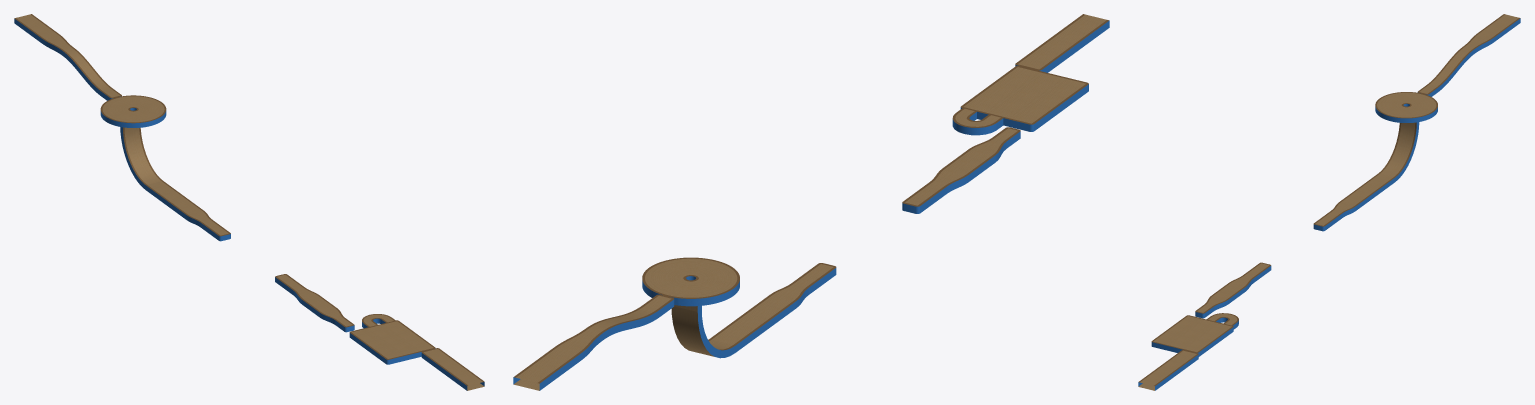
Rendered from ramp_25.FBX.
3 renders of one model, left to right at view 1: azimuth 30°, elevation 25°; view 2: azimuth 150°, elevation 25°; view 3: azimuth 330°, elevation 25°, orthographic. The views are drawn at different scales.
Parts seen in each view (by area): view 1: ramp_25; view 2: ramp_25; view 3: ramp_25.
Part boxes in pixels (x1,y1,x2,y2): ramp_25: [14, 14, 484, 390]; ramp_25: [513, 14, 1109, 390]; ramp_25: [1138, 14, 1520, 390].
Bounding box in the file's own units: 1848 × 1840 × 18431.
